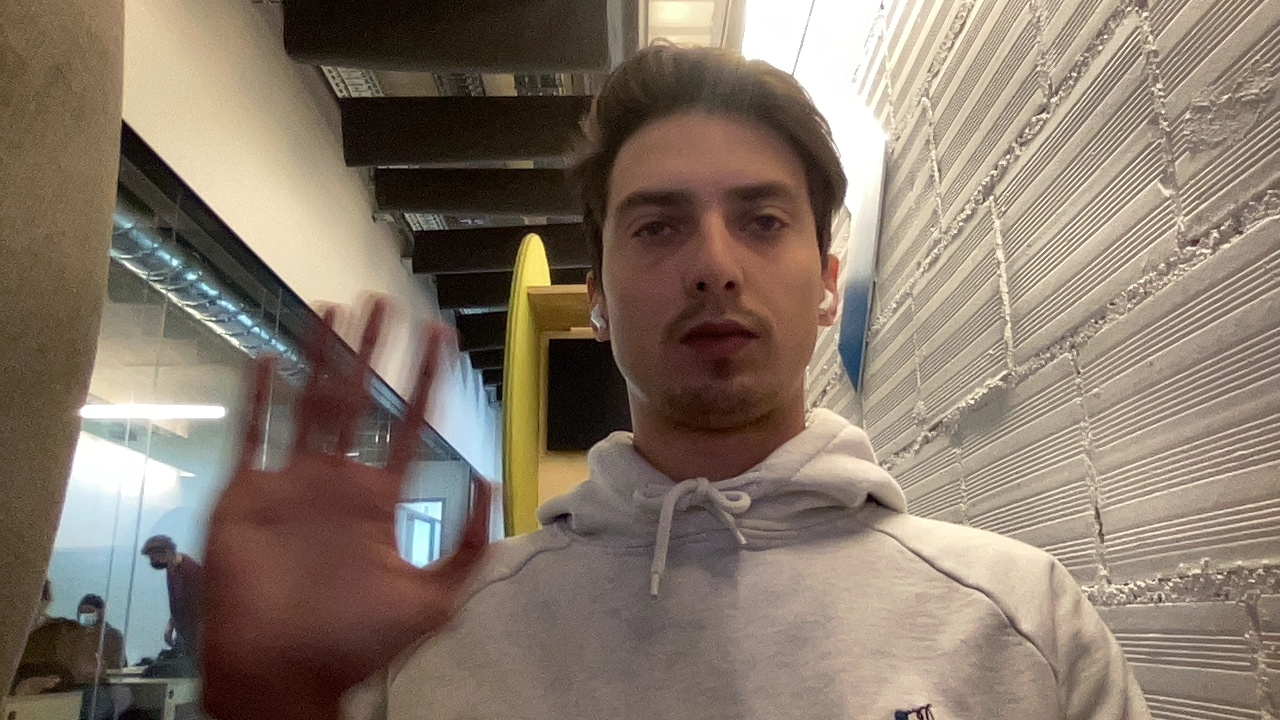Hello: (180, 287, 509, 697)
